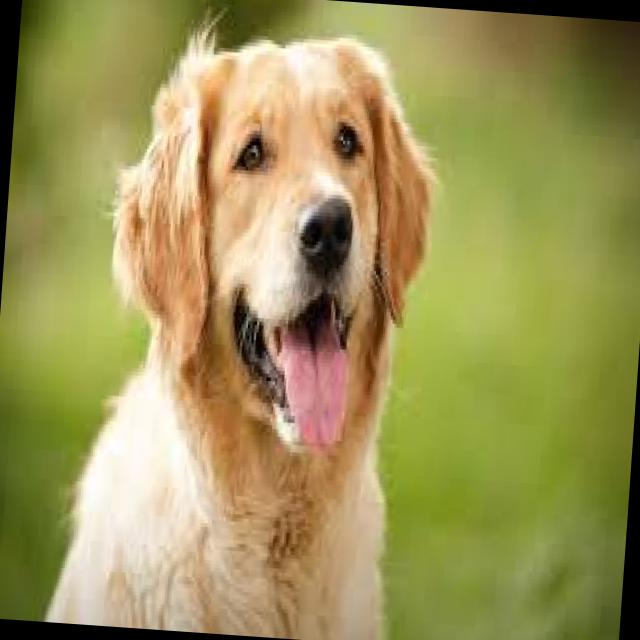DOG: (43, 0, 448, 640)
